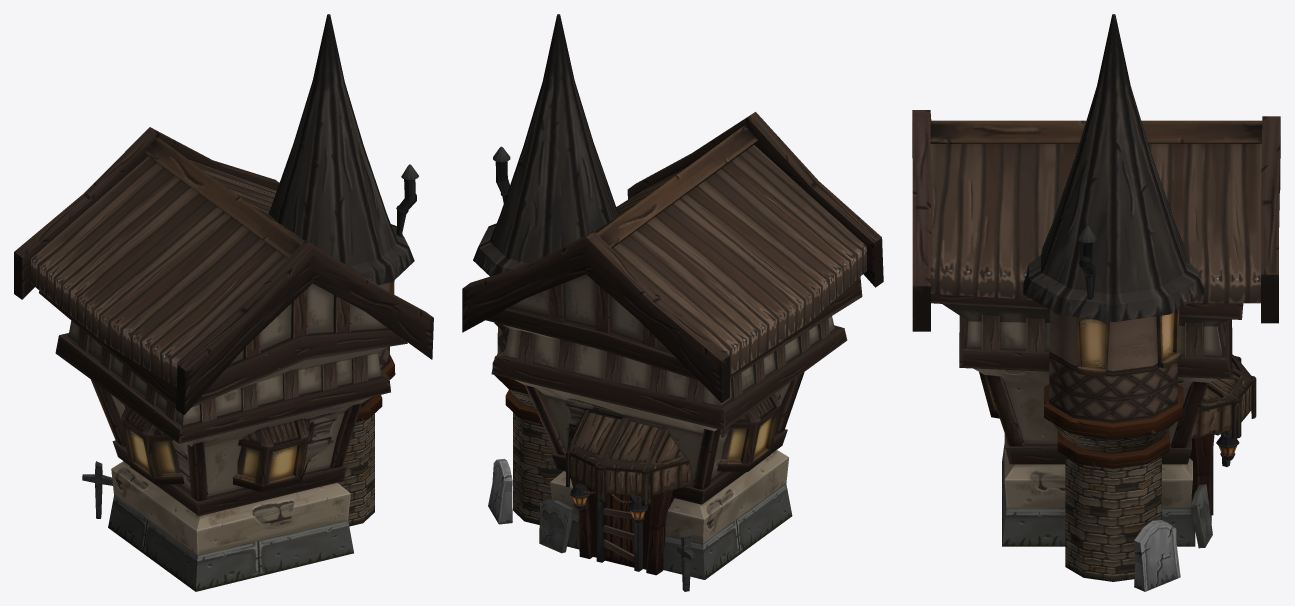
The model's file is Stylised_House.fbx.
3 renders of one model, left to right at view 1: azimuth 30°, elevation 25°; view 2: azimuth 150°, elevation 25°; view 3: azimuth 270°, elevation 25°, orthographic. The views are drawn at different scales.
Parts seen in each view (by area): view 1: polySurface415; view 2: polySurface415; view 3: polySurface415.
Part boxes in pixels (bbox=[...]): polySurface415: bbox=[14, 14, 433, 591]; polySurface415: bbox=[462, 14, 883, 591]; polySurface415: bbox=[912, 14, 1280, 591].
Bounding box in the file's own units: 25.44 × 38.17 × 23.27.
